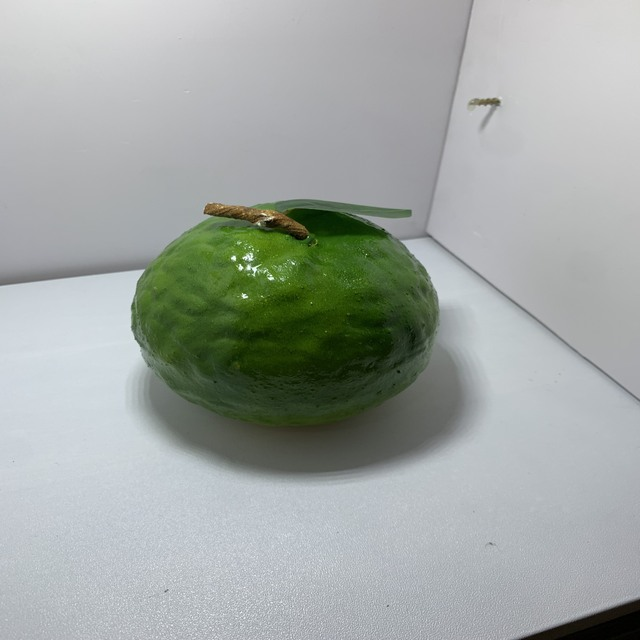Cam xanh: (119, 190, 443, 437)
